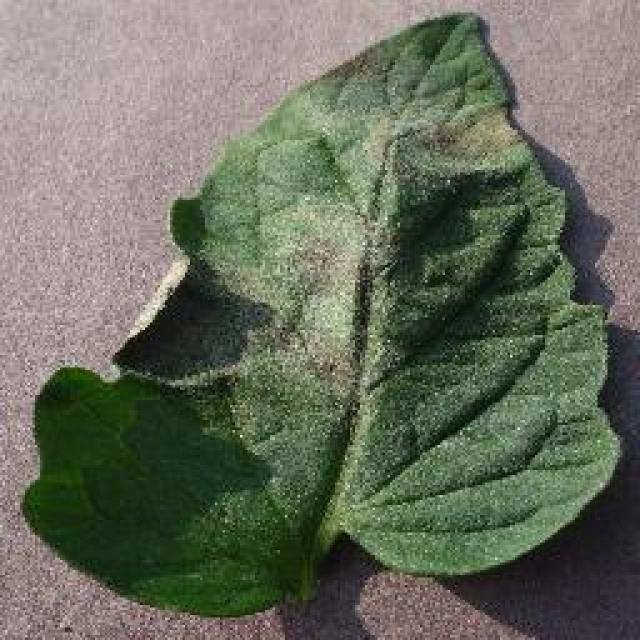Tomato Late Blight: (150, 45, 595, 540)
